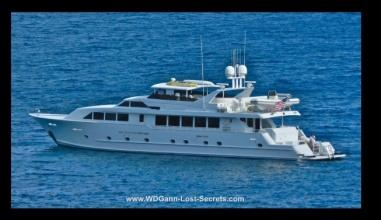yacht: (30, 45, 344, 161)
